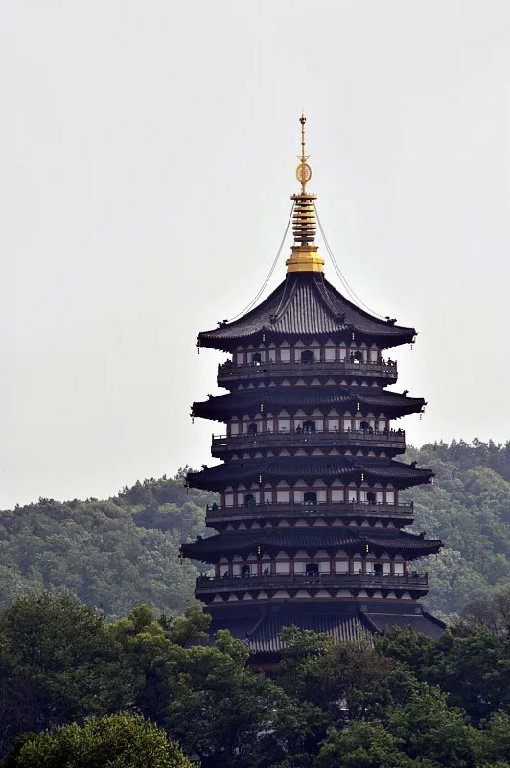Leifeng: (173, 105, 467, 716)
